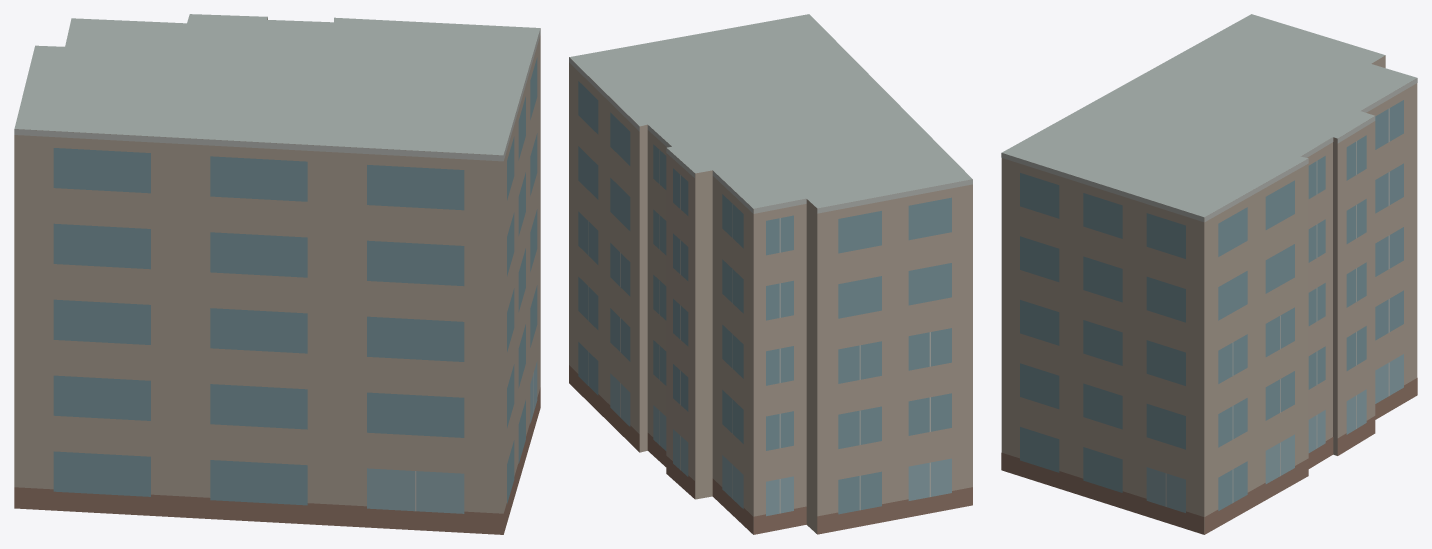
The model's file is survey-upis-32631769.glb.
3 renders of one model, left to right at view 1: azimuth 30°, elevation 25°; view 2: azimuth 150°, elevation 25°; view 3: azimuth 270°, elevation 25°, orthographic. The views are drawn at different scales.
Parts seen in each view (by area): view 1: survey-upis-32631769.tmp; view 2: survey-upis-32631769.tmp; view 3: survey-upis-32631769.tmp.
Boxes of the visible parts, box(x1,y1,x2,y2) form: survey-upis-32631769.tmp: box(14, 14, 540, 534); survey-upis-32631769.tmp: box(569, 14, 972, 534); survey-upis-32631769.tmp: box(1001, 14, 1417, 534).
Size of the model in its own units: 21.01 by 15.29 by 18.16.
